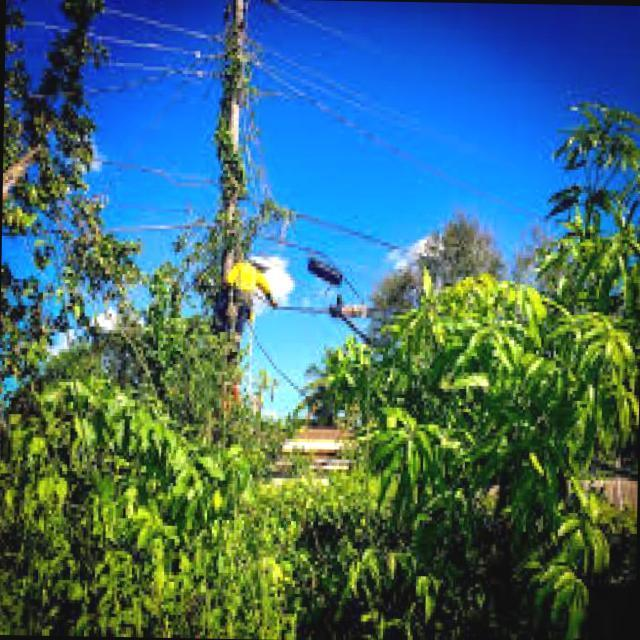critical vegetation: (112, 11, 344, 363)
